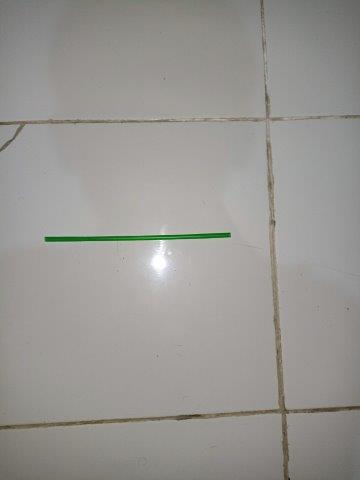sedotan: (45, 232, 231, 242)
